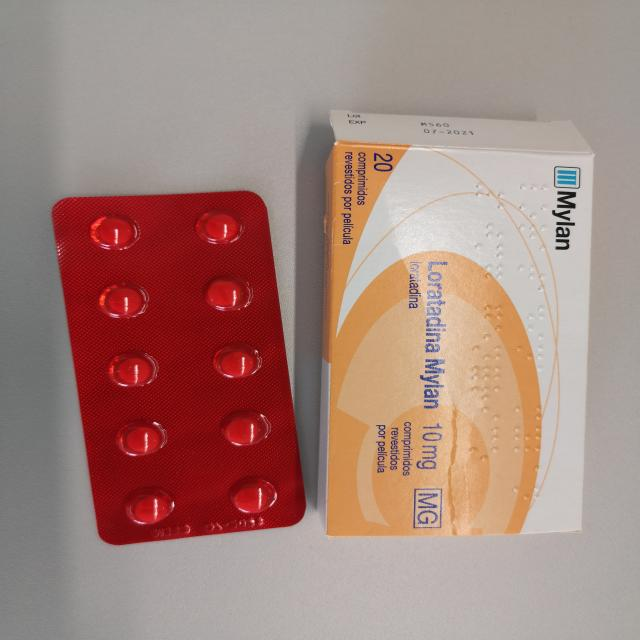Pill: (185, 208, 254, 253), (97, 352, 163, 395), (114, 488, 178, 530), (82, 210, 144, 253), (90, 282, 153, 324), (104, 419, 164, 463), (194, 276, 254, 319), (215, 408, 269, 453), (226, 479, 277, 521), (204, 345, 258, 384)
